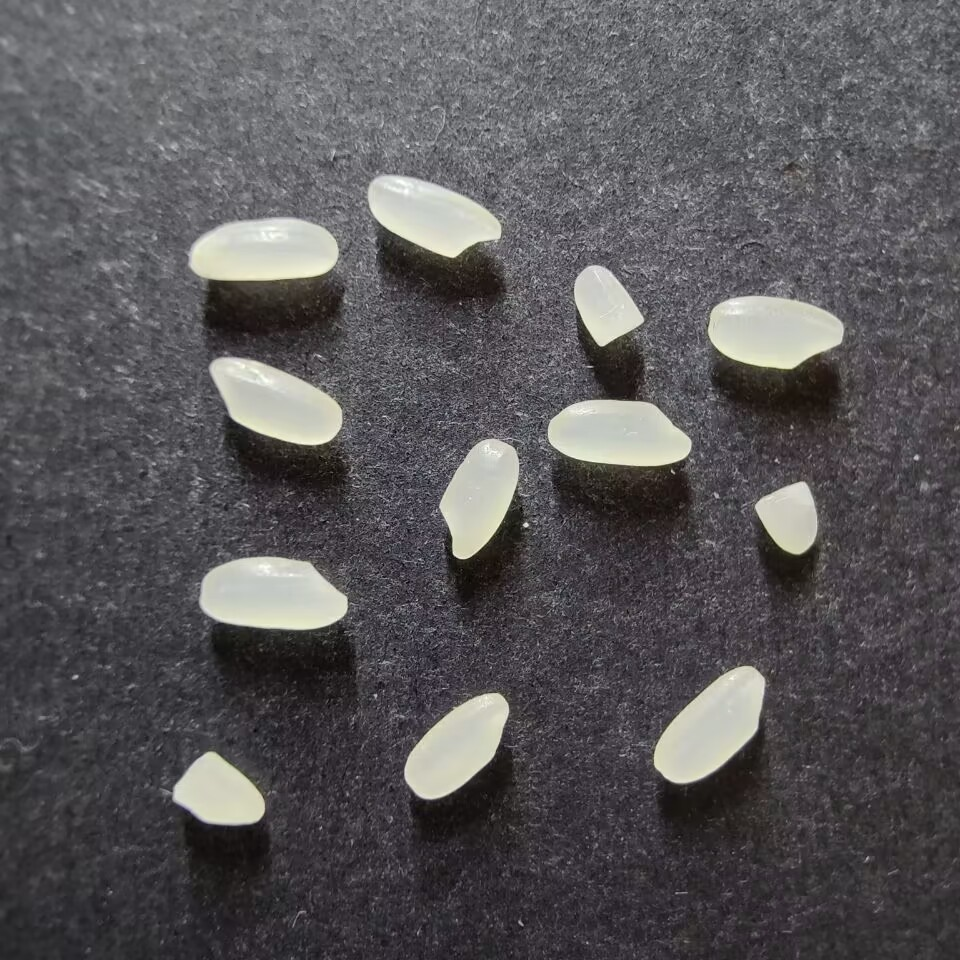broken: (171, 750, 266, 826), (573, 264, 645, 347), (754, 481, 818, 555)
rice: (652, 664, 766, 784), (209, 356, 343, 447), (403, 692, 510, 800), (367, 174, 502, 258), (199, 555, 348, 630), (707, 295, 844, 370), (546, 398, 692, 467), (439, 438, 520, 560), (188, 217, 338, 282)
